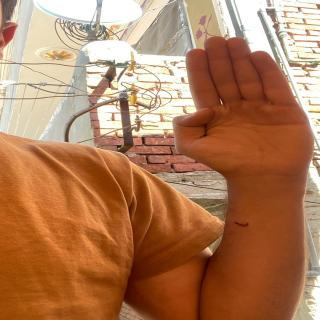SEEN: (162, 28, 320, 185)
